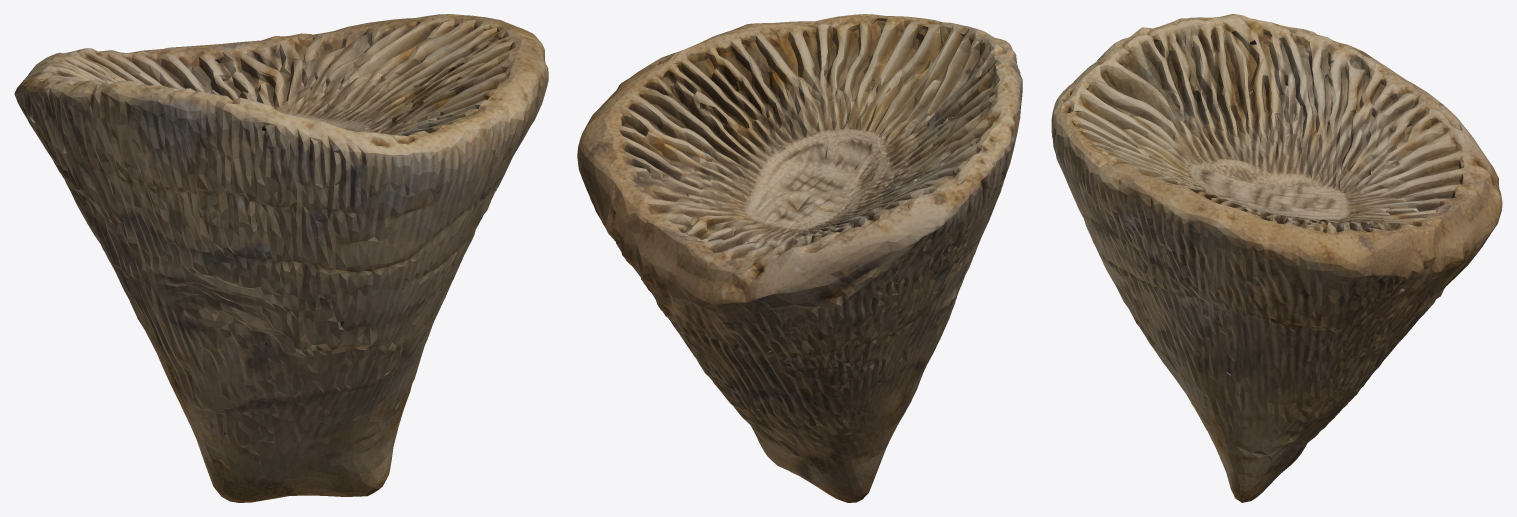
The picture shows the model from 3 angles, left to right: view 1: azimuth 30°, elevation 25°; view 2: azimuth 150°, elevation 25°; view 3: azimuth 270°, elevation 25°; orthographic projection. The views are drawn at different scales.
Visible parts, largest first — view 1: world; view 2: world; view 3: world.
Part boxes in pixels (x1,y1,x2,y2): world: (14, 14, 548, 502); world: (577, 14, 1022, 502); world: (1051, 14, 1502, 502).
Bounding box in the file's own units: 0.96 × 0.9621 × 0.9971.
1 material, 1 textured.
